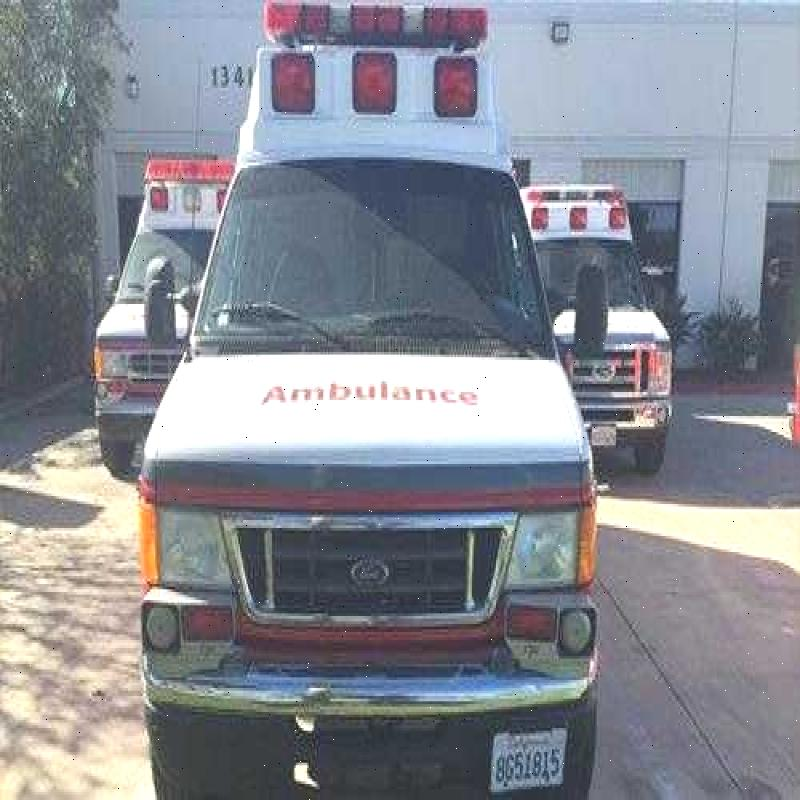AmbulanceSiren: (233, 0, 542, 138)
